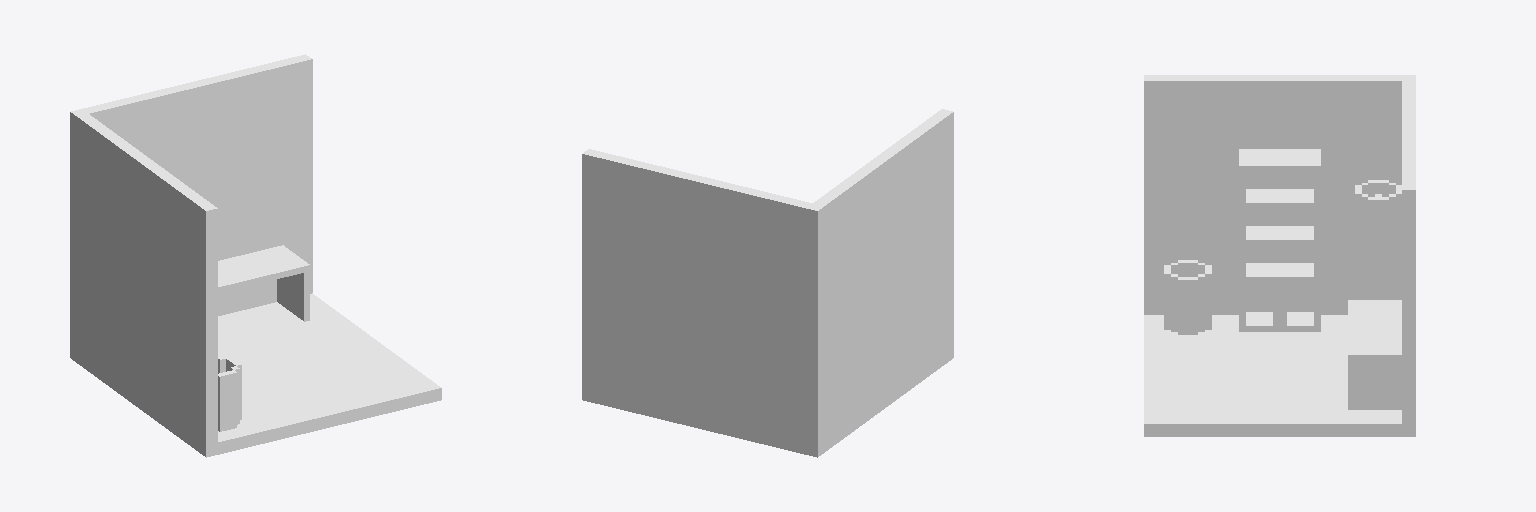
File: BasicRoom1.obj
The picture shows the model from 3 angles: view 1: azimuth 30°, elevation 25°; view 2: azimuth 150°, elevation 25°; view 3: azimuth 270°, elevation 25°; orthographic projection.
Visible parts, largest first — view 1: BasicRoom1; view 2: BasicRoom1; view 3: BasicRoom1.
Boxes of the visible parts, <box> form: BasicRoom1: <box>70,54,441,457</box>; BasicRoom1: <box>582,109,953,457</box>; BasicRoom1: <box>1144,75,1415,436</box>.
Size of the model in its own units: 40 by 40 by 40.